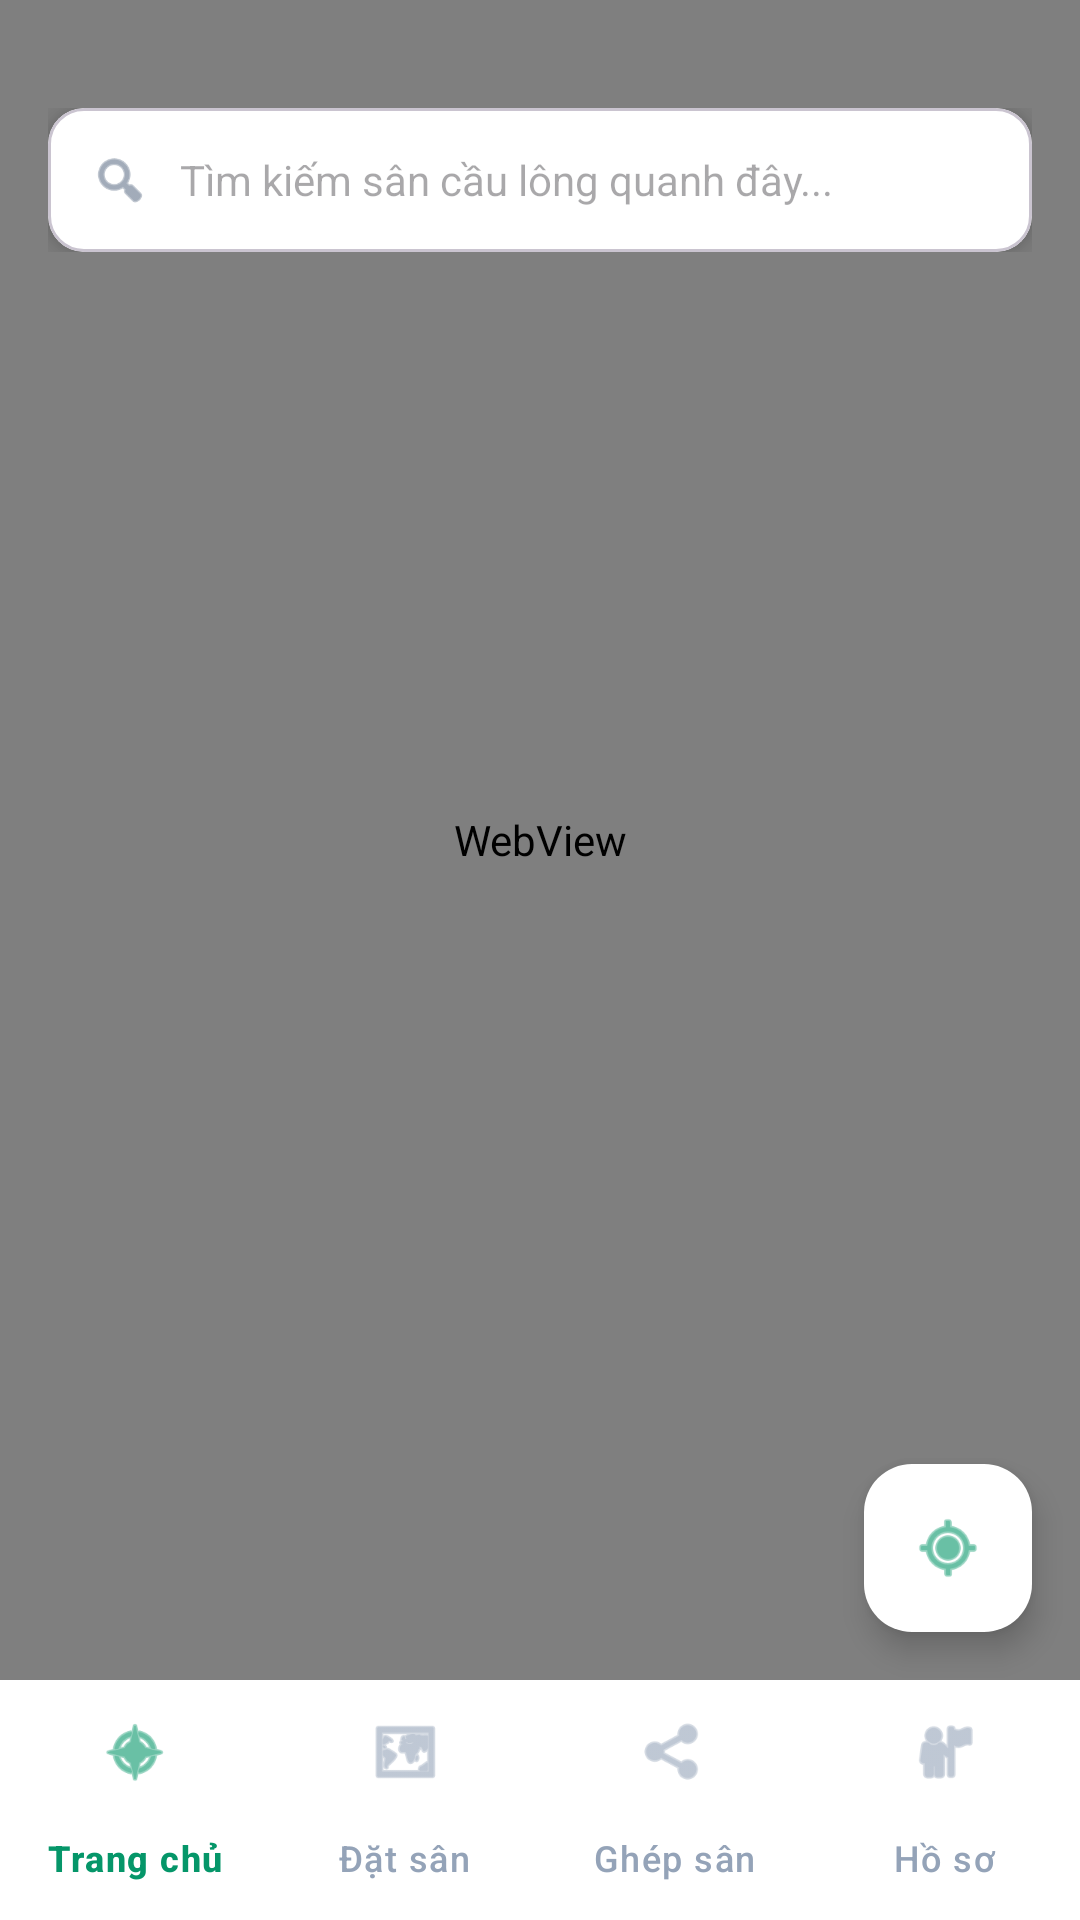

Where to tap for icons on this 1080 × 1920 app screen, as (x=x, y=y):
mylocation: (x=948, y=1548)
search: (x=120, y=180)
